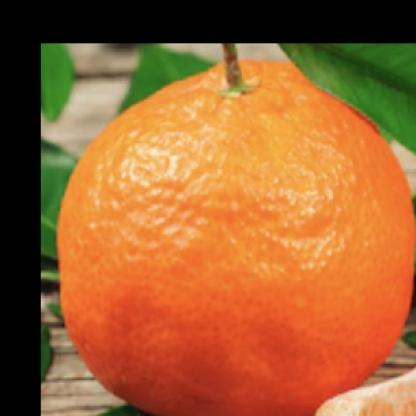fresh: (56, 58, 416, 416)
